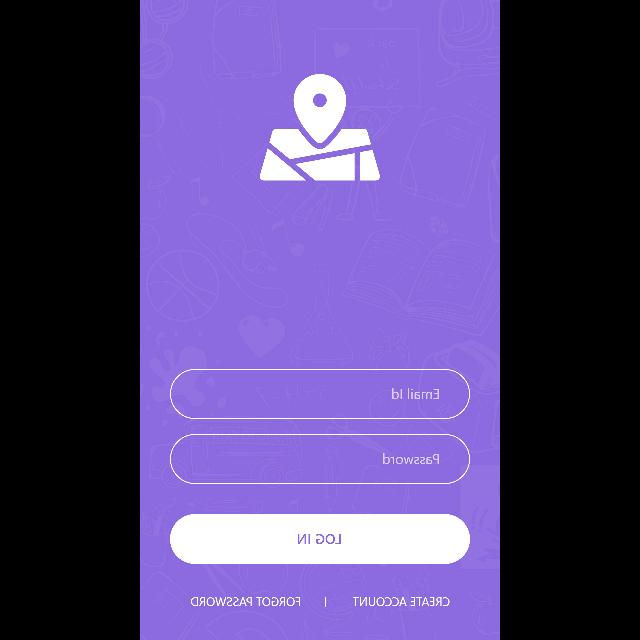backgroundimage: (140, 1, 498, 640)
image: (260, 75, 380, 182)
input: (170, 368, 470, 419), (170, 434, 470, 484)
text: (190, 597, 300, 607), (352, 597, 450, 607), (383, 454, 439, 464), (391, 388, 439, 399)
textbutton: (170, 514, 470, 564)
